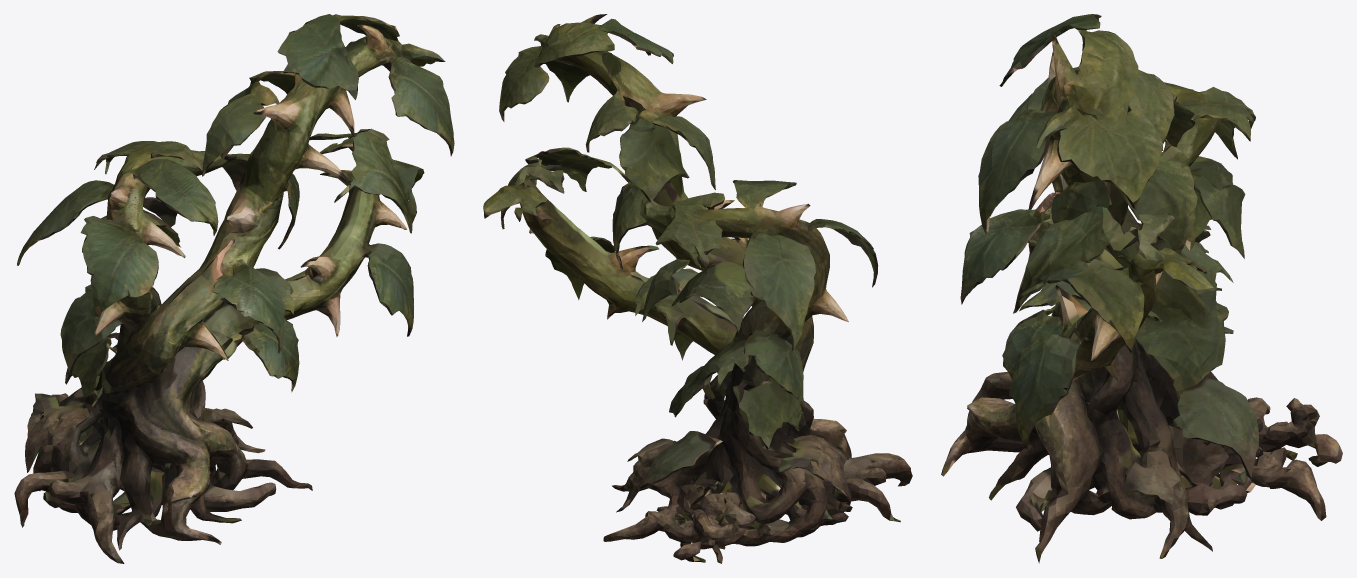
The model's file is foe_tanglevines.glb.
3 renders of one model, left to right at view 1: azimuth 30°, elevation 25°; view 2: azimuth 150°, elevation 25°; view 3: azimuth 270°, elevation 25°, orthographic. The views are drawn at different scales.
Visible parts, largest first — view 1: temp_mesh.ply; view 2: temp_mesh.ply; view 3: temp_mesh.ply.
Boxes of the visible parts, <box> form: temp_mesh.ply: <box>14,14,454,563</box>; temp_mesh.ply: <box>483,14,912,563</box>; temp_mesh.ply: <box>941,14,1342,563</box>.
Size of the model in its own units: 1.86 by 1.98 by 1.27.
Materials: 1 (1 with a texture image).
